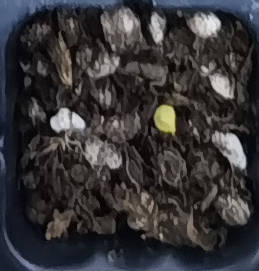pepper seed: (62, 36, 241, 170)
